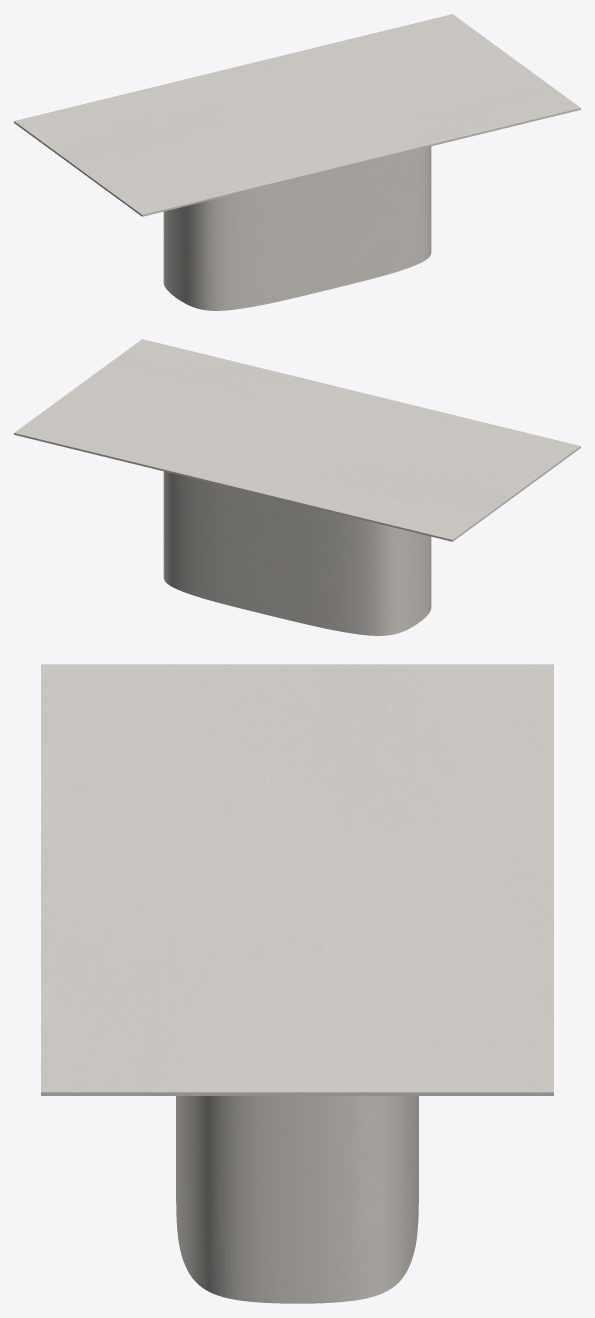
File: purewhite_recta_facet_fixed.glb
The picture shows the model from 3 angles, top to bottom: view 1: azimuth 30°, elevation 25°; view 2: azimuth 150°, elevation 25°; view 3: azimuth 270°, elevation 25°; orthographic projection. The views are drawn at different scales.
Parts seen in each view (by area): view 1: facet_recta, fixed; view 2: facet_recta, fixed; view 3: facet_recta, fixed.
Boxes of the visible parts, x1,y1,x2,y2 form: facet_recta: [14, 14, 580, 216]; fixed: [163, 146, 431, 310]; facet_recta: [14, 339, 580, 541]; fixed: [163, 471, 431, 635]; facet_recta: [41, 664, 553, 1095]; fixed: [176, 1096, 418, 1303].
Size of the model in its own units: 7.5 by 2.5 by 3.8.
Materials: 1 (1 with a texture image).
